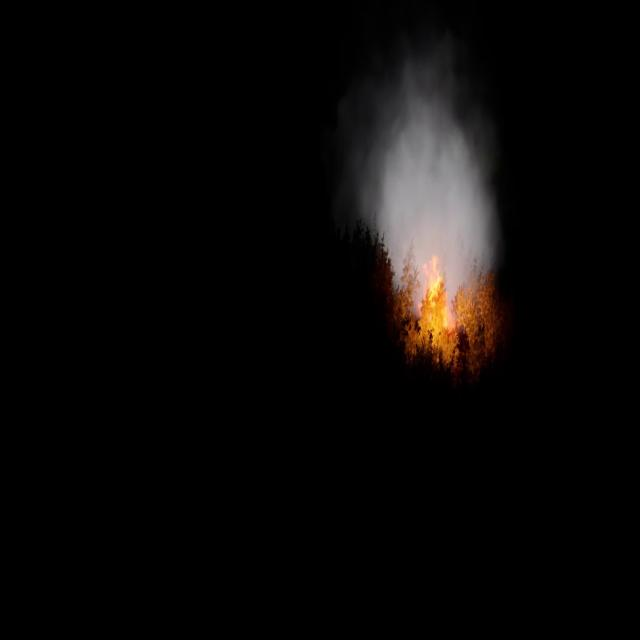fire: (422, 253, 450, 330)
smoke: (349, 30, 499, 317)
